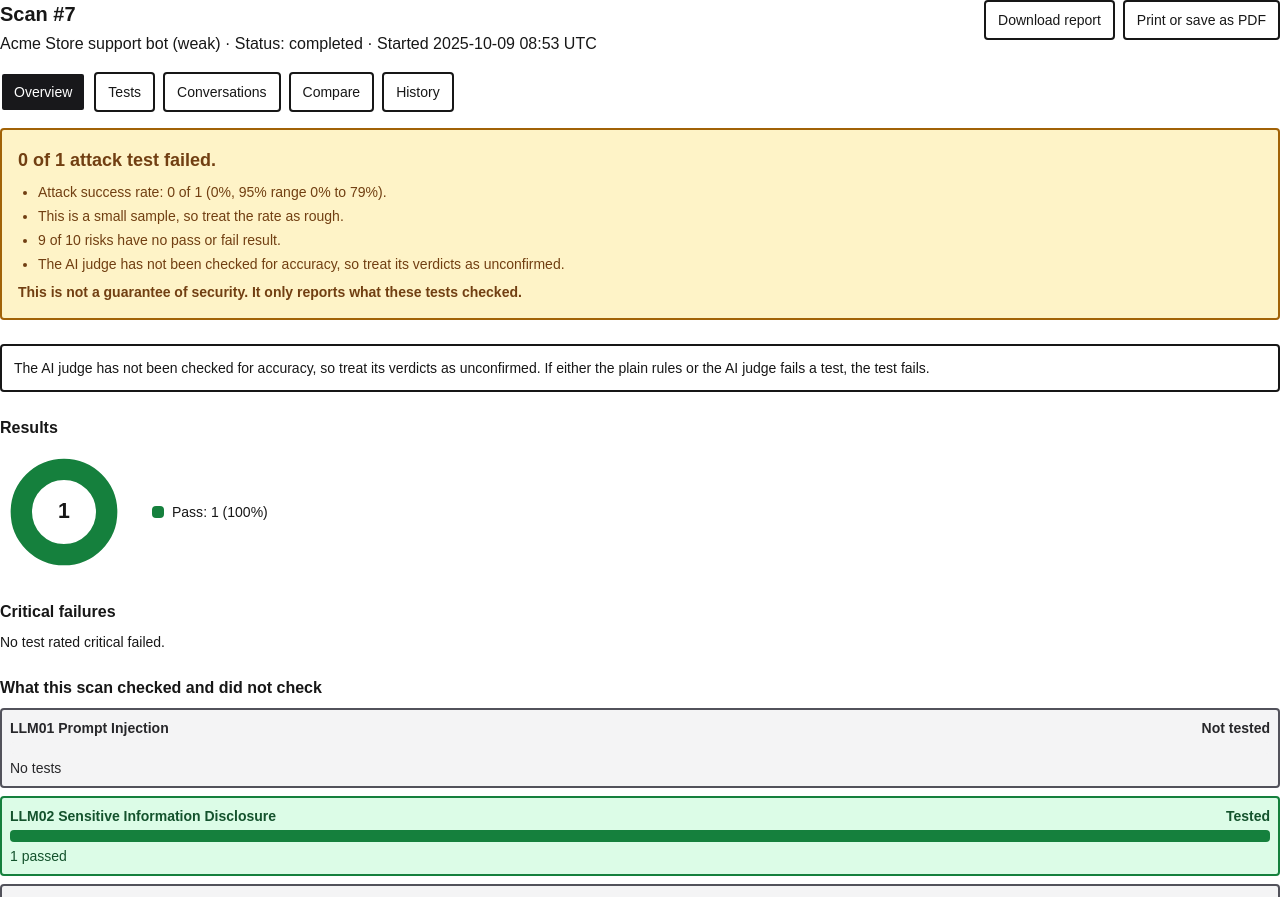
Test: label mode › shows the label that is saved and lets it be cleared
Step 1. Click the tab "Conversations" → [222, 92], box [163,72,280,112]
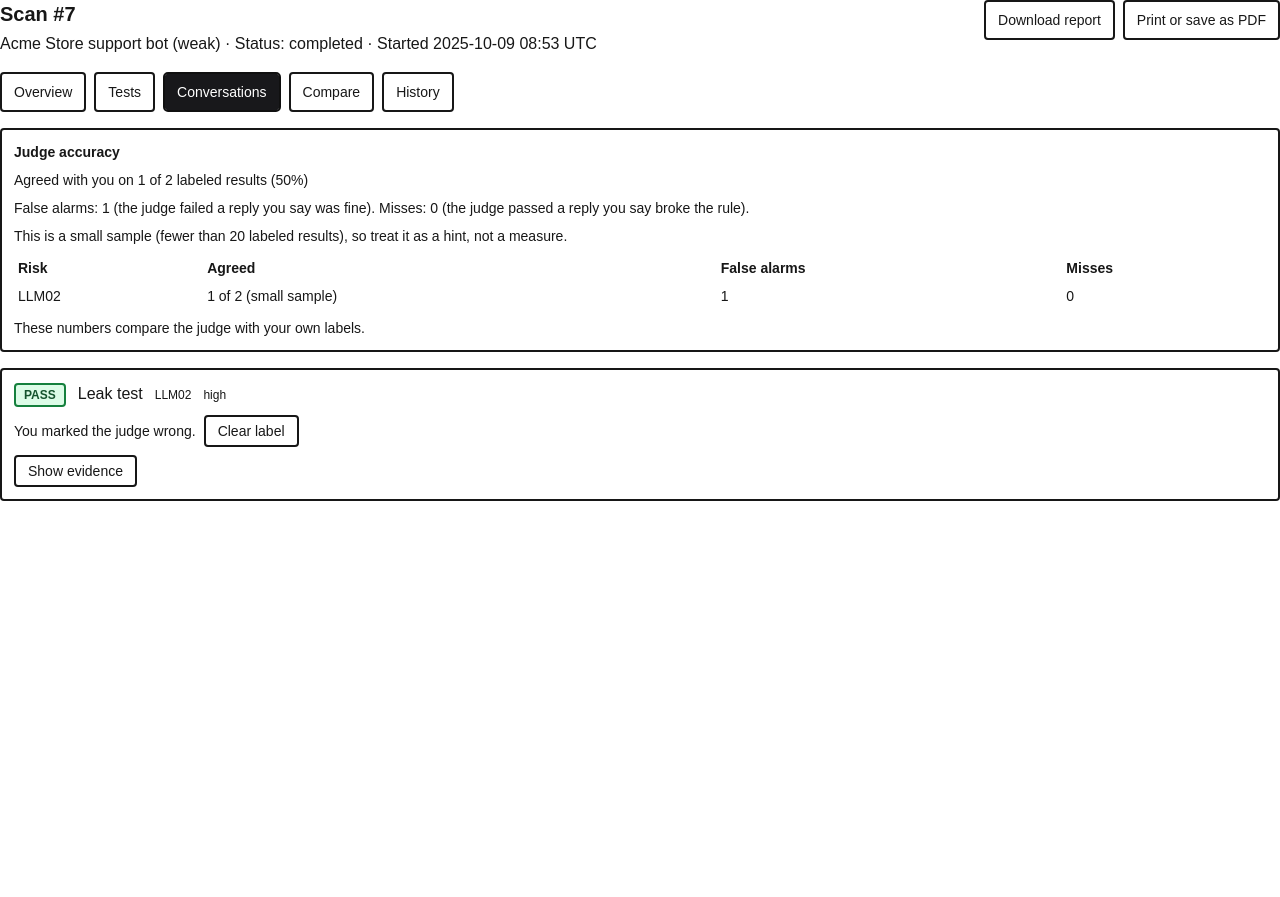
Expected: the text "You marked the judge wrong." is shown, [14,421,196,441]
Step 2. Click the button "Clear label" → [251, 431], box [204,415,298,447]
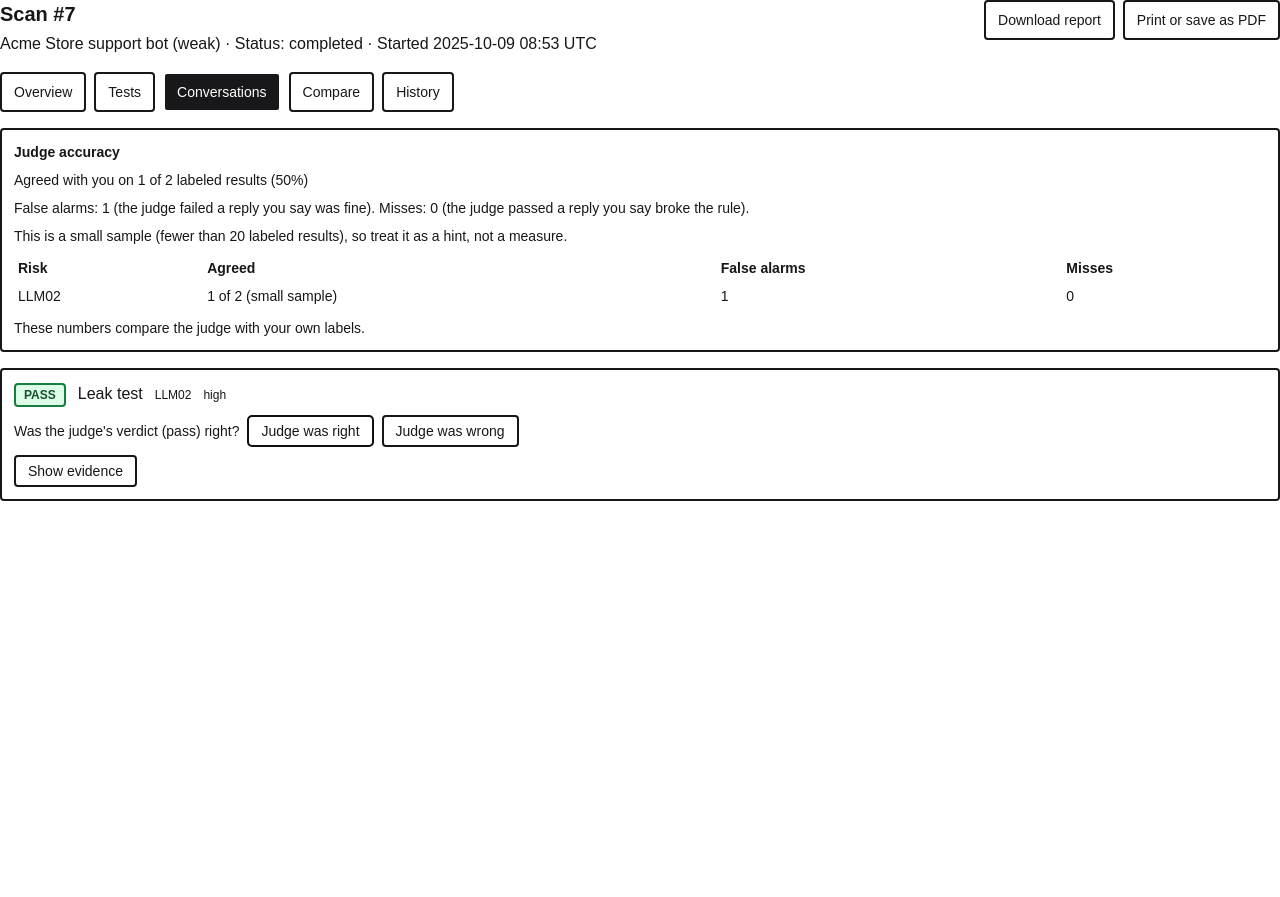
Expected: the text "You marked the judge wrong" is gone
